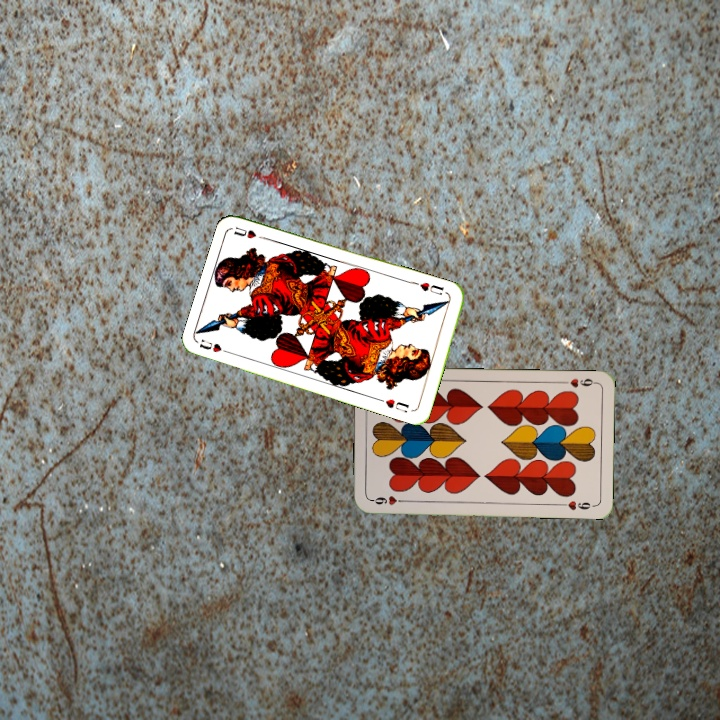H9: (558, 374, 599, 390), (367, 492, 408, 507)
HU: (196, 335, 235, 356), (416, 278, 446, 298)
